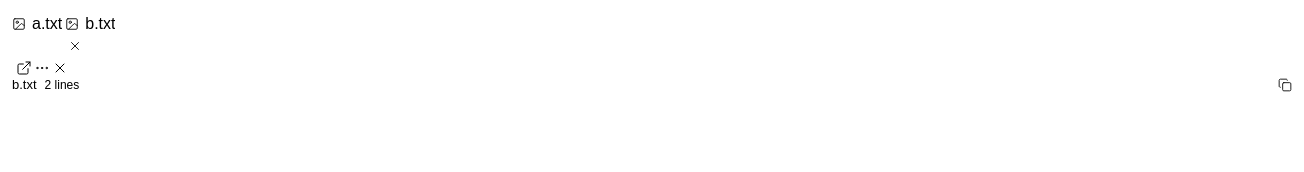
Test: ArtifactViewer: switching tabs › shows a tab that has been seen at once, without a loading state, while it re-reads
Click the tab "a.txt".
click(37, 24)  # box [12,12,62,36]
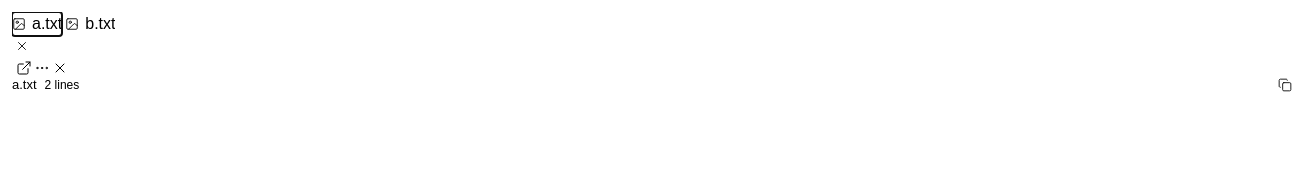
Now the text with class "br-preview-bar__name" reads "a.txt", box [12,77,37,92]
